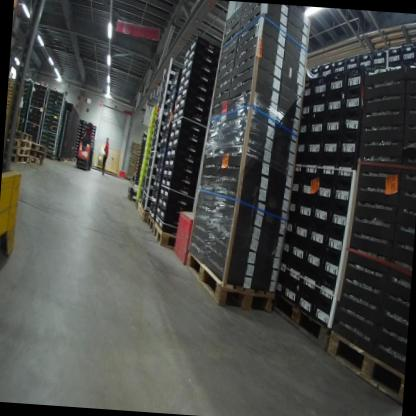pallet: (321, 322, 406, 409), (182, 251, 276, 313), (265, 285, 330, 358), (150, 219, 179, 251), (10, 125, 35, 142), (5, 152, 31, 165), (8, 143, 32, 157), (27, 140, 48, 154), (10, 135, 34, 147), (145, 210, 155, 232), (27, 146, 46, 157), (26, 156, 45, 167), (139, 204, 148, 223), (54, 154, 69, 165), (44, 151, 56, 162), (135, 200, 142, 215)
pallet_truck: (72, 118, 99, 176)
